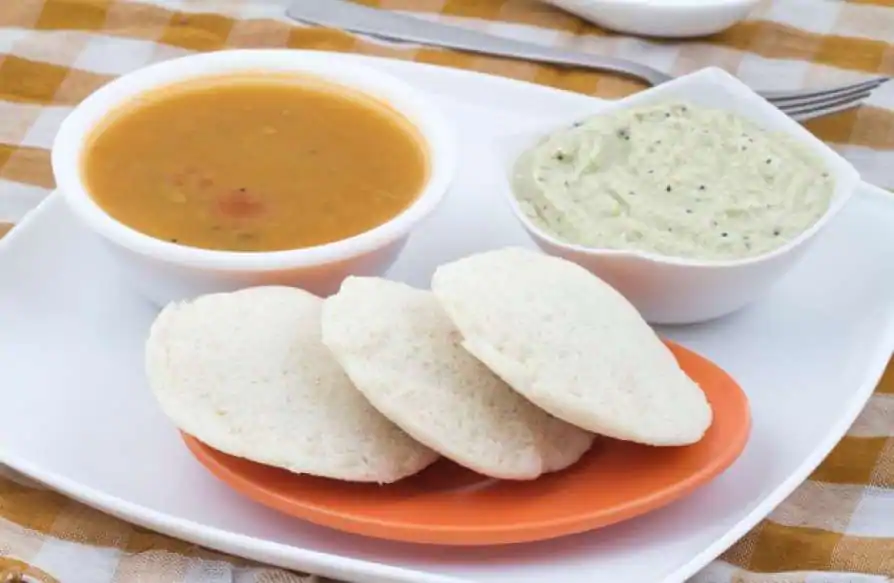chutney: (512, 90, 839, 274)
idli: (143, 284, 460, 489), (321, 272, 597, 477), (429, 247, 711, 446)
